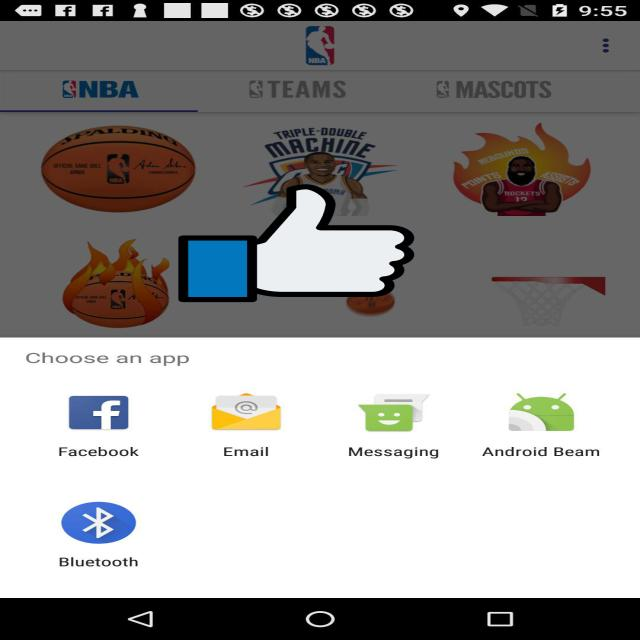privacy zuckering: (178, 182, 414, 304)
